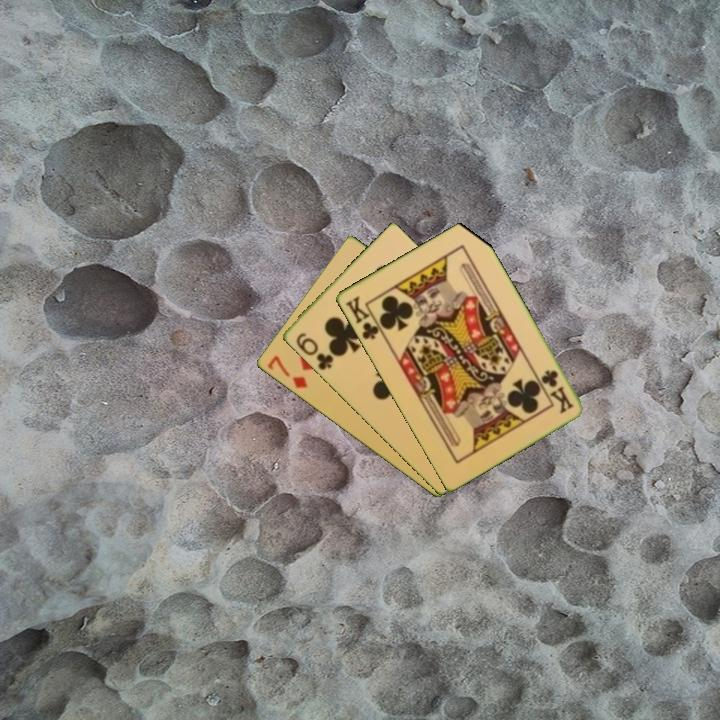6c: (292, 329, 336, 373)
7d: (263, 352, 310, 392)
Kc: (341, 292, 386, 343), (537, 366, 576, 416)
